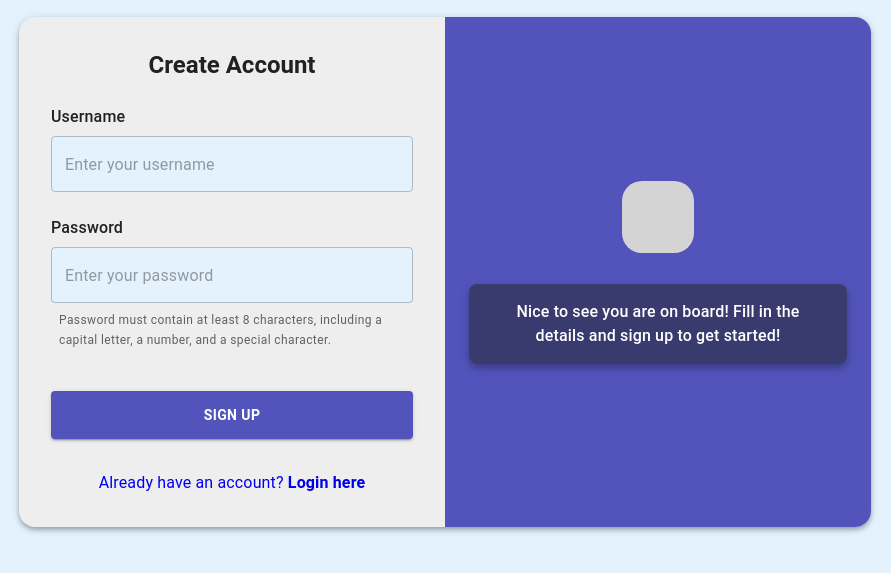
Test case: AddUser component › should show password error when there is a password-related error
The image size is (891, 573).
In the field labelled "Username": [232, 164] box [51, 136, 413, 192], type "validUser"
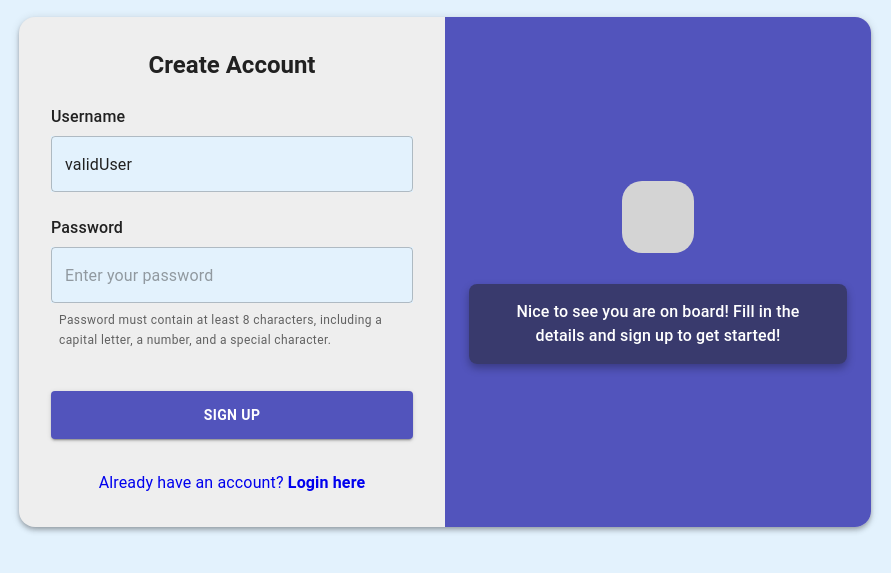
In the password field labelled "Password": [232, 275] box [51, 247, 413, 303], type "WeakPassword"
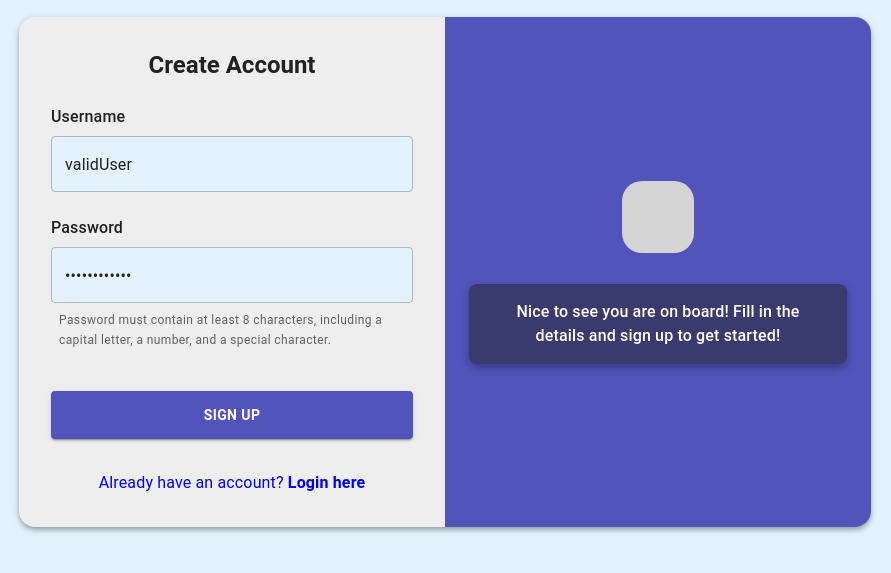
Click the button "Sign Up": [232, 415] box [51, 391, 413, 439]
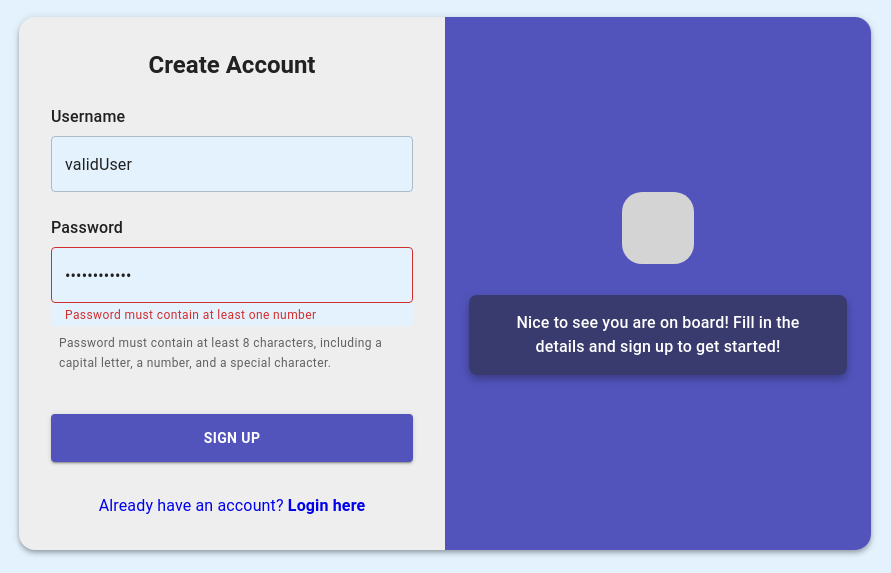
Check: the text "Password must contain at least one number" is shown, box [65, 308, 316, 322]
